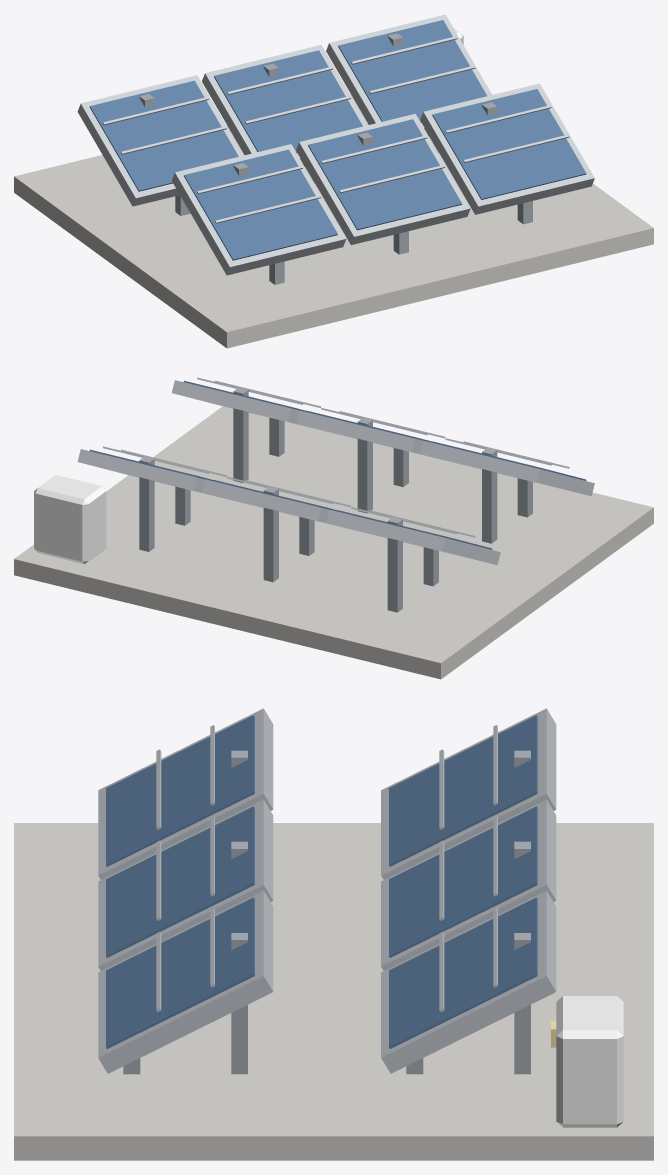
File: solar.glb
3 views of the same model, one above another, from view 1: azimuth 30°, elevation 25°; view 2: azimuth 150°, elevation 25°; view 3: azimuth 270°, elevation 25° (orthographic). The views are drawn at different scales.
Visible parts, largest first — view 1: main; view 2: main; view 3: main.
Part boxes in pixels (x1,y1,x2,y2): main: (14, 14, 653, 348); main: (14, 377, 653, 679); main: (14, 708, 653, 1160).
Bounding box in the file's own units: 1.1 × 0.2653 × 0.95.
